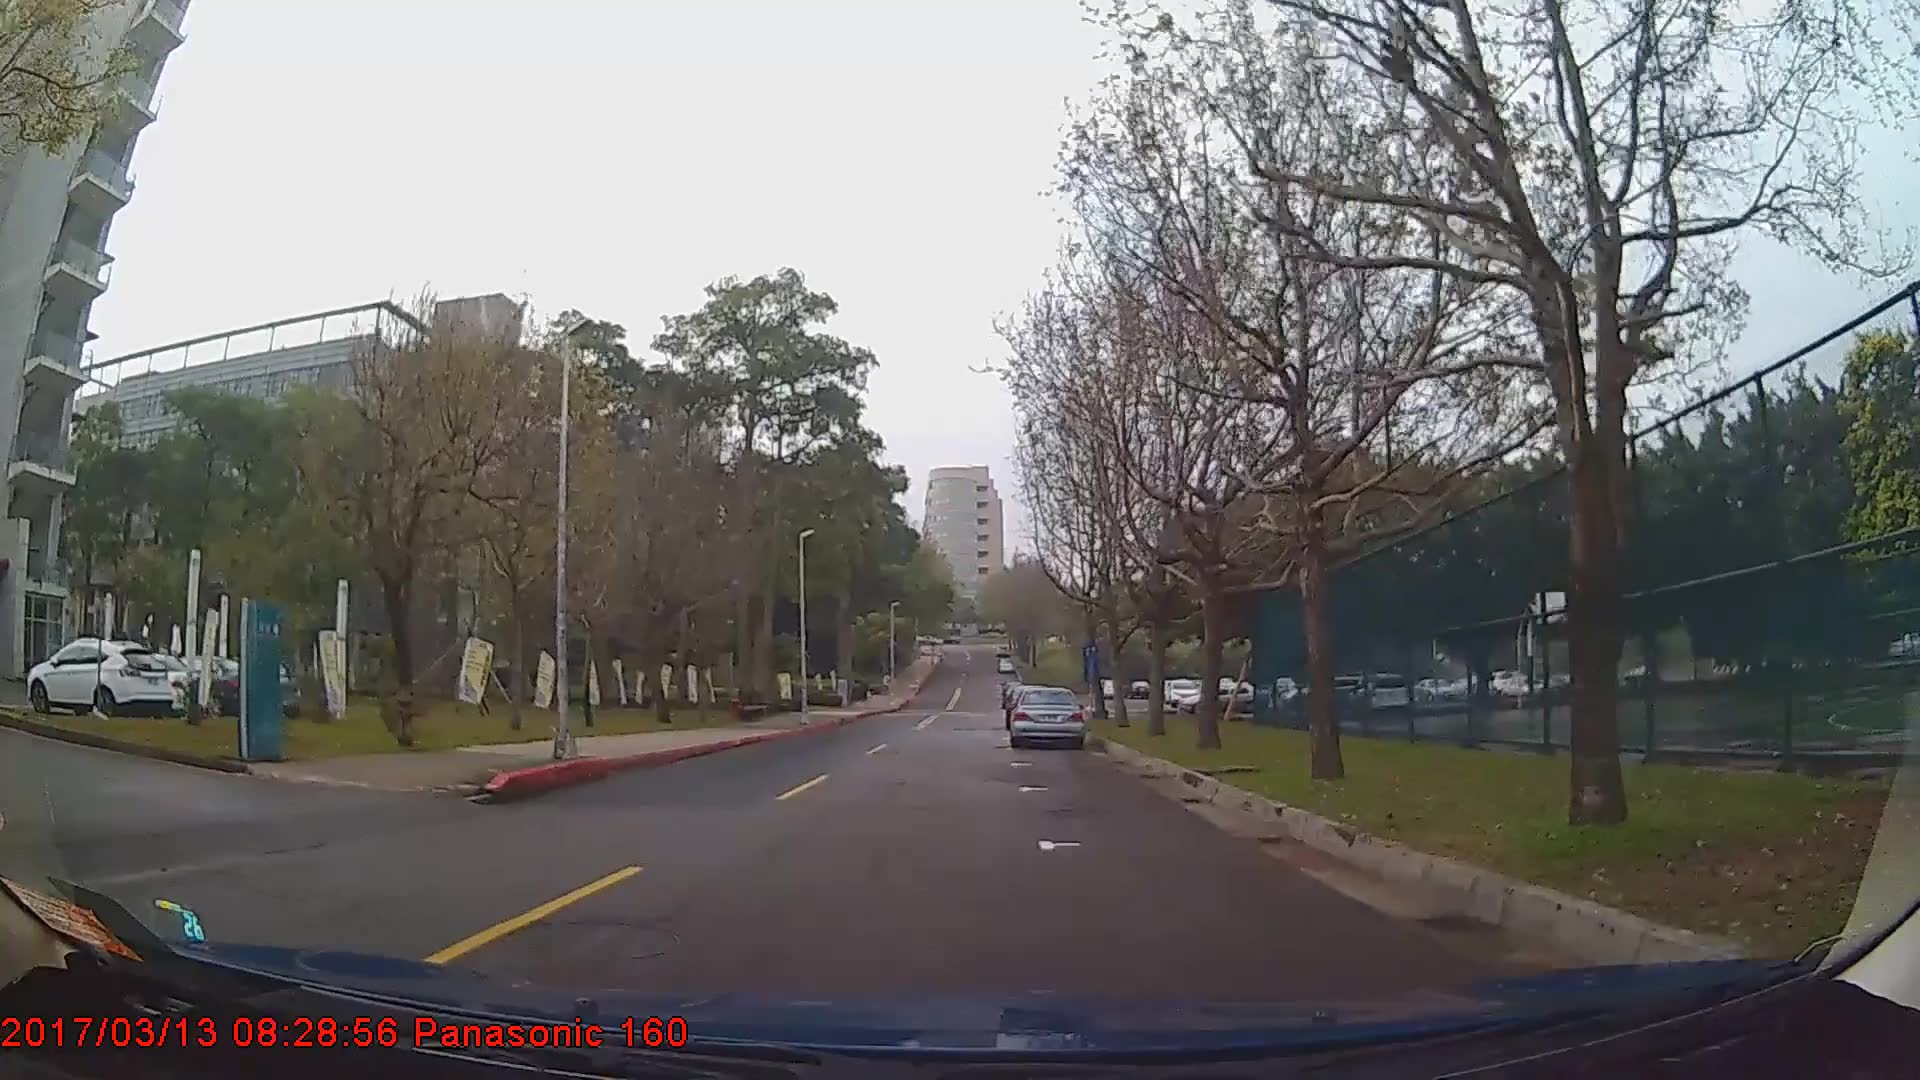vehicle: (26, 636, 174, 717), (80, 647, 214, 709), (1009, 686, 1084, 749)
